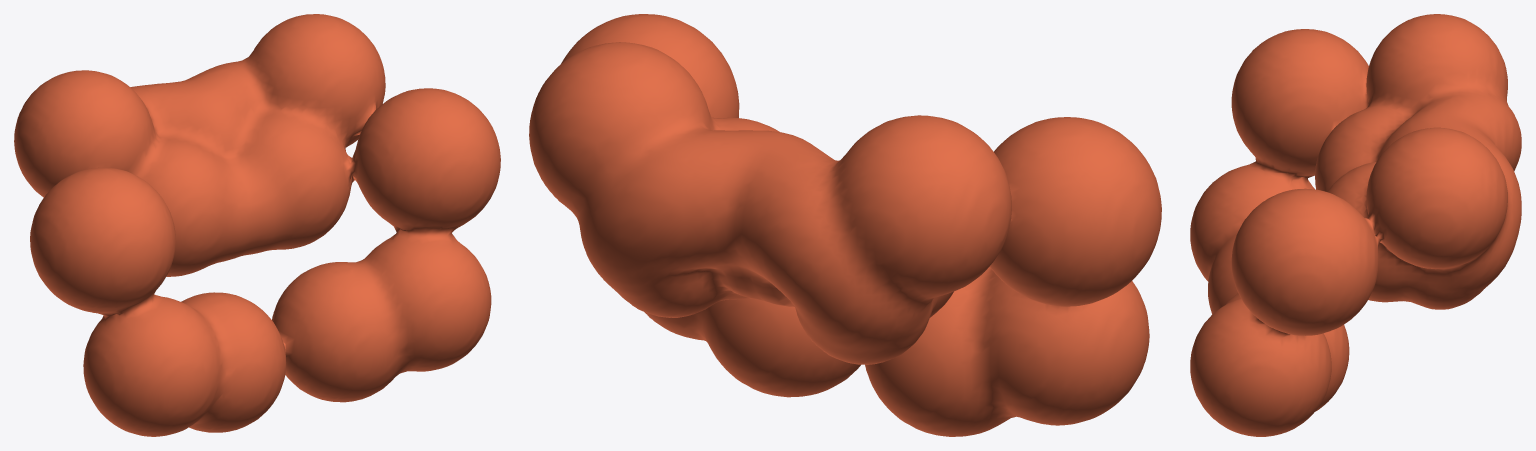
The picture shows the model from 3 angles, left to right: view 1: azimuth 30°, elevation 25°; view 2: azimuth 150°, elevation 25°; view 3: azimuth 270°, elevation 25°; orthographic projection. The views are drawn at different scales.
Parts seen in each view (by area): view 1: GDExample; view 2: GDExample; view 3: GDExample.
Part boxes in pixels (left/top/right/bottom): GDExample: left=14, top=14, right=500, bottom=436; GDExample: left=529, top=14, right=1161, bottom=436; GDExample: left=1190, top=14, right=1521, bottom=436.
Size of the model in its own units: 6.48 by 4.18 by 4.09.
